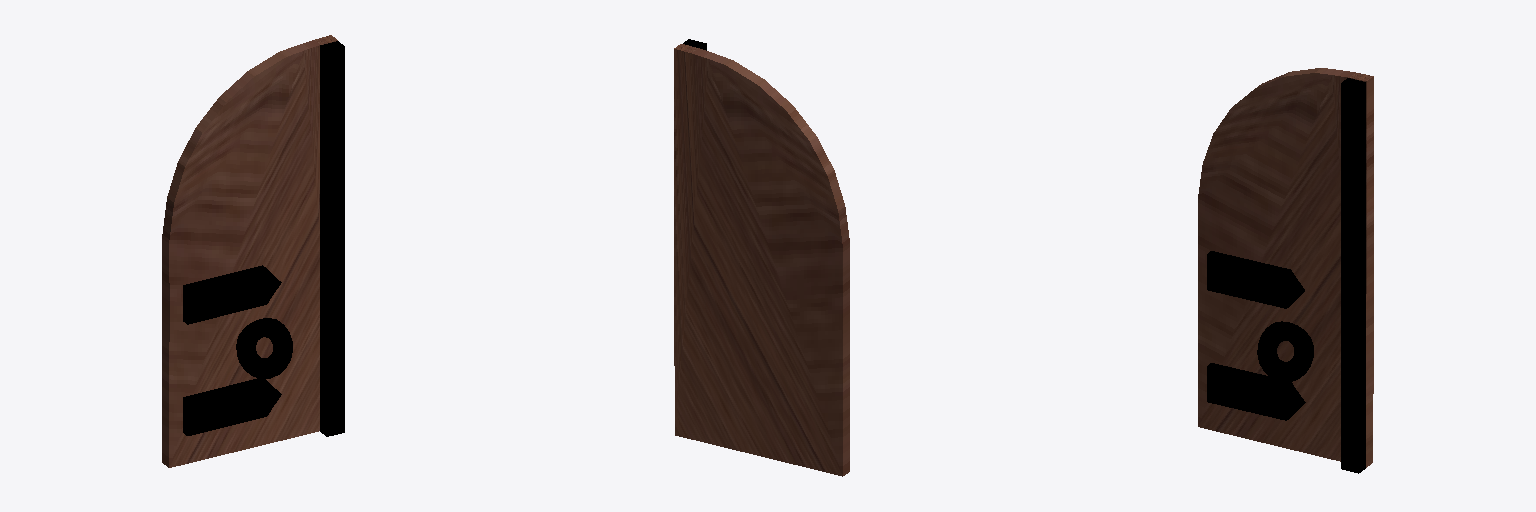
3 views of the same model, side by side, from view 1: azimuth 30°, elevation 25°; view 2: azimuth 150°, elevation 25°; view 3: azimuth 330°, elevation 25° (orthographic).
Parts seen in each view (by area): view 1: polySurface88; view 2: polySurface88; view 3: polySurface88.
Part boxes in pixels (x1,y1,x2,y2): polySurface88: (162, 35, 344, 467); polySurface88: (674, 39, 849, 476); polySurface88: (1198, 68, 1373, 473).
Size of the model in its own units: 1.8 by 3.93 by 0.3434.
Materials: 4 (1 with a texture image).